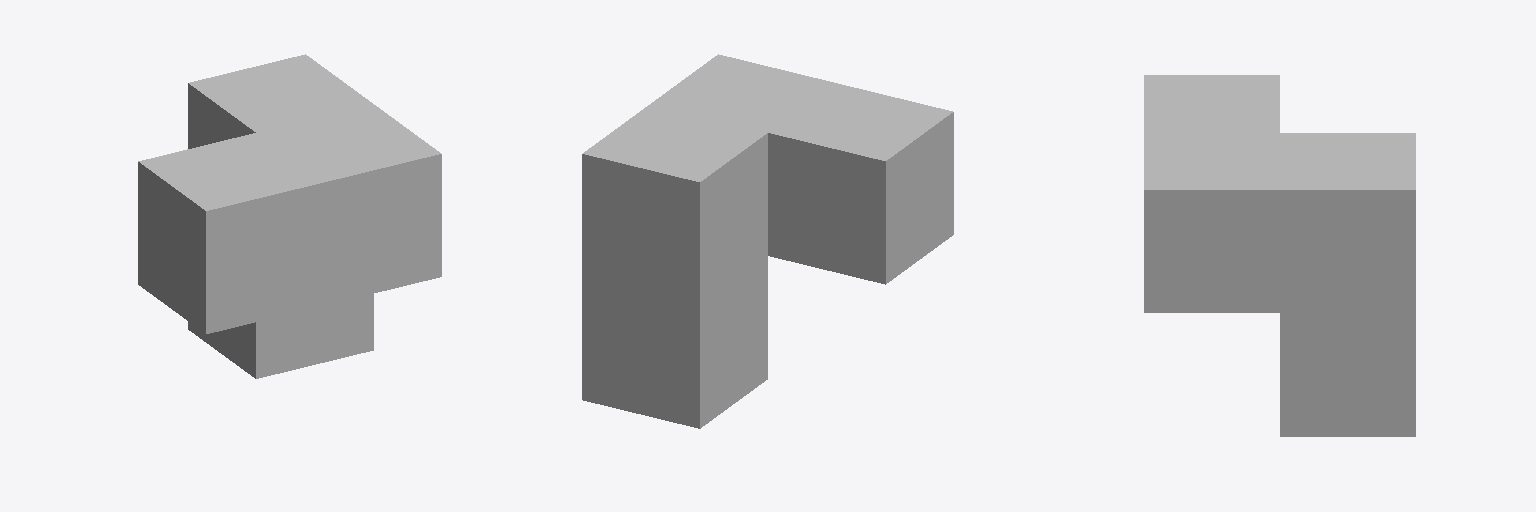
File: E2-Soma-p06.obj
3 renders of one model, left to right at view 1: azimuth 30°, elevation 25°; view 2: azimuth 150°, elevation 25°; view 3: azimuth 270°, elevation 25°, orthographic.
Visible parts, largest first — view 1: mesh9, mesh5, mesh8, mesh3, mesh2; view 2: mesh1, mesh5, mesh2, mesh7, mesh8; view 3: mesh4, mesh5.
Part boxes in pixels (left/top/right/bottom): mesh9: left=206, top=154, right=441, bottom=333; mesh5: left=138, top=54, right=440, bottom=210; mesh8: left=138, top=162, right=205, bottom=333; mesh3: left=256, top=294, right=373, bottom=378; mesh2: left=188, top=83, right=255, bottom=378; mesh1: left=582, top=154, right=699, bottom=428; mesh5: left=583, top=54, right=952, bottom=181; mesh2: left=700, top=133, right=767, bottom=428; mesh7: left=768, top=133, right=885, bottom=284; mesh8: left=886, top=112, right=953, bottom=283; mesh4: left=1144, top=190, right=1415, bottom=436; mesh5: left=1144, top=75, right=1415, bottom=189.
Size of the model in its own units: 0.036 by 0.036 by 0.036.